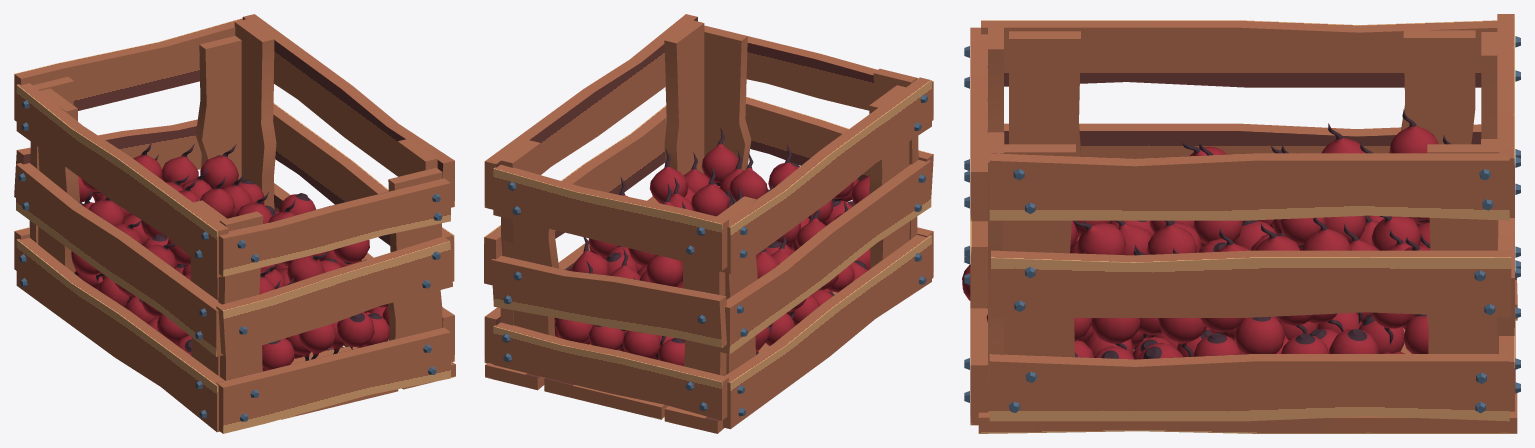
File: Cajon_Rabanito.fbx
3 views of the same model, side by side, from view 1: azimuth 30°, elevation 25°; view 2: azimuth 150°, elevation 25°; view 3: azimuth 270°, elevation 25° (orthographic). The views are drawn at different scales.
Parts seen in each view (by area): view 1: Cajon_Rabanito; view 2: Cajon_Rabanito; view 3: Cajon_Rabanito.
Part boxes in pixels (x1,y1,x2,y2): Cajon_Rabanito: (14,14,455,433); Cajon_Rabanito: (484,14,933,433); Cajon_Rabanito: (962,14,1520,433).
Bounding box in the file's own units: 80.53 × 65.67 × 120.
